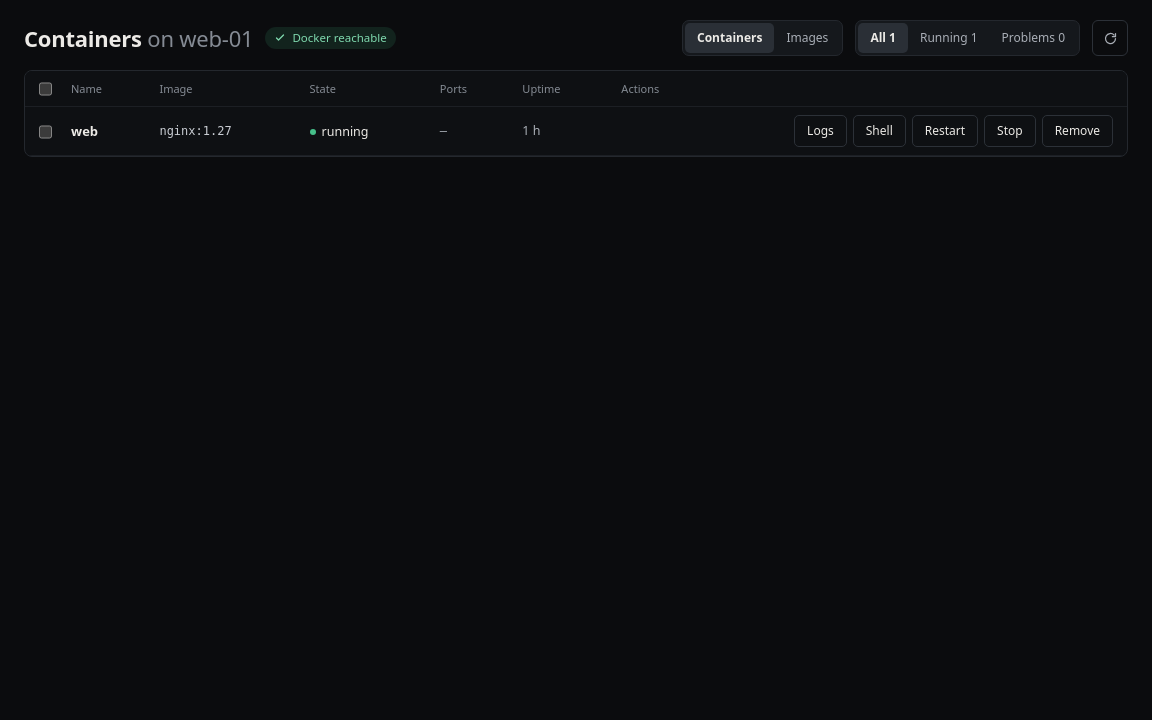
it: Docker images multi-select › removes every selected image after one confirmation
The image size is (1152, 720).
Expected: the text "Docker reachable" is shown, [266,27,396,49]
Click the button "Images" at (807, 38), box [774,23,840,53]
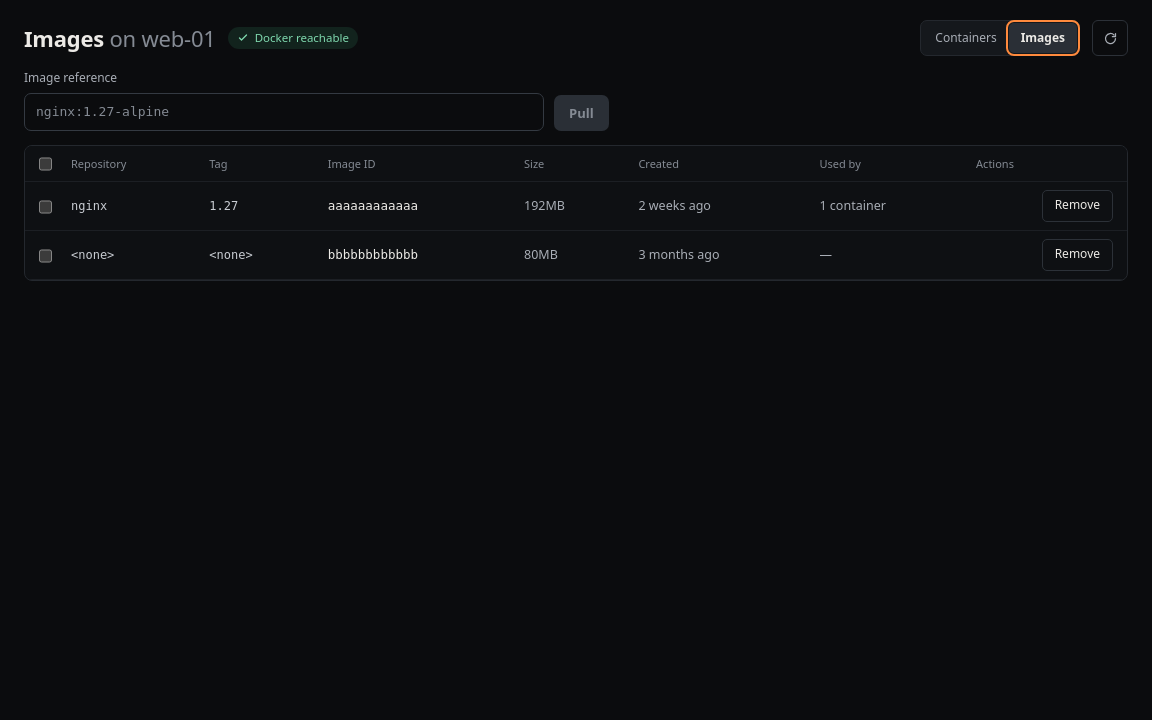
Expected: the text "192MB" is shown, [510,181,624,230]
Click the checkbox named "Select all images" at (46, 164), box [39,156,52,172]
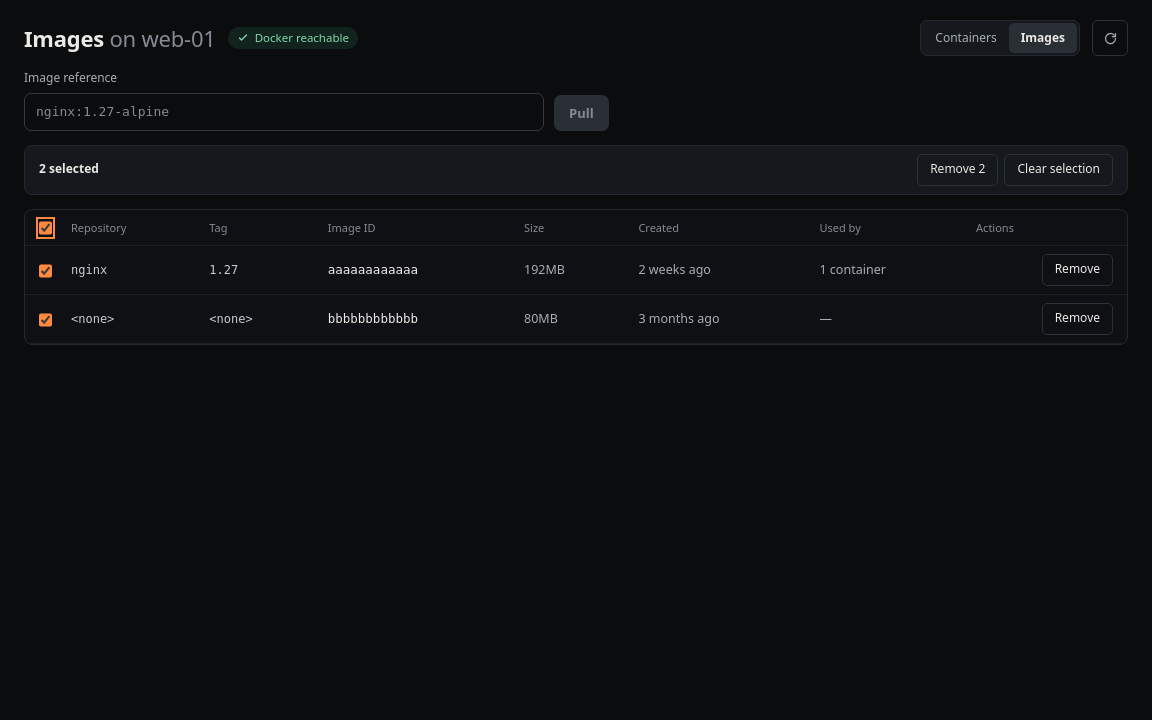
Click the button with aria-label "Remove 2 selected images" at (958, 170), box [917,154,998,186]
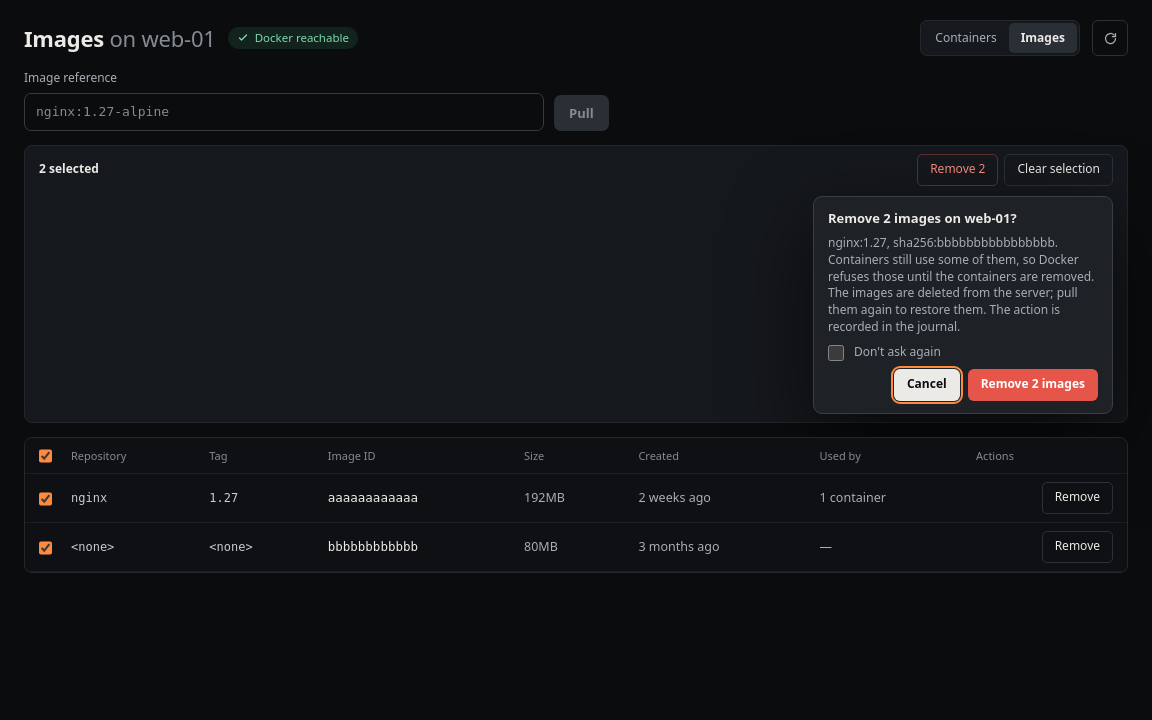
Expected: the dialog shows "Remove 2 images on web-01?", [828,209,1017,227]
Expected: the dialog shows "Containers still use some of them", [828,234,1094,318]
Click the button "Remove 2 images" at (1033, 385), box [968,369,1098,401]
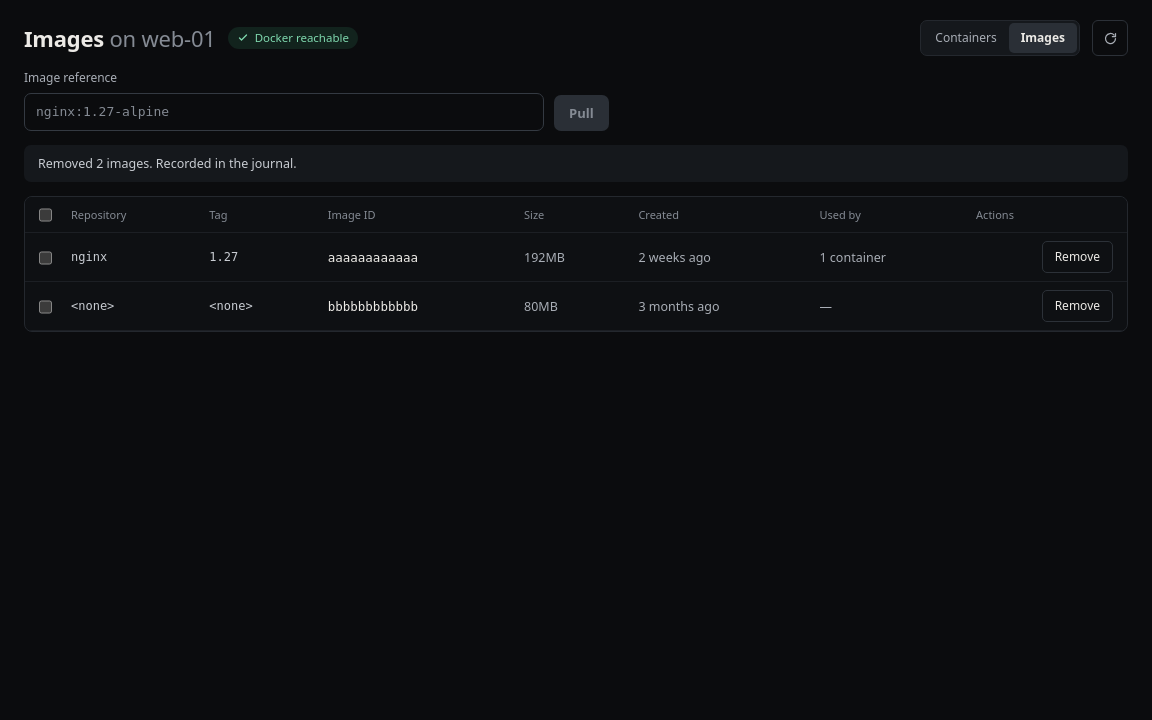
Expected: the text "Removed 2 images. Recorded in the journal." is shown, [24,145,1128,182]
